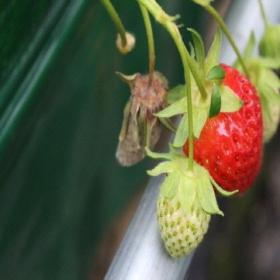Gray Mold: (114, 65, 178, 168)
